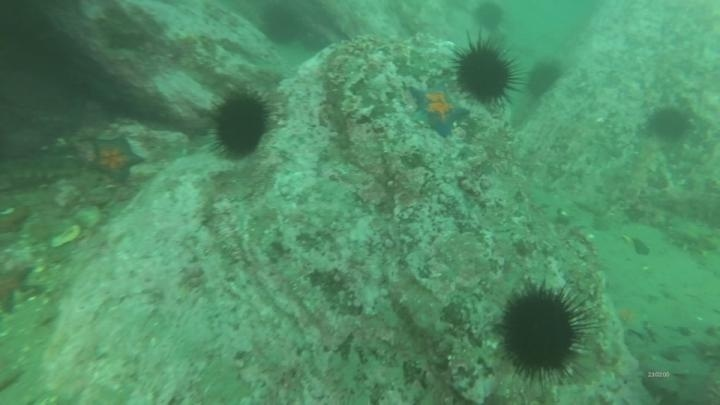echinus: (495, 281, 591, 386), (207, 88, 275, 161), (450, 39, 521, 107), (257, 4, 305, 47), (645, 104, 693, 143), (524, 59, 564, 99), (470, 2, 507, 32)
holothurian: (1, 152, 82, 191), (622, 137, 665, 203), (661, 212, 720, 257)
starfish: (407, 81, 470, 138), (87, 133, 146, 185), (1, 262, 35, 316), (610, 298, 651, 340)
